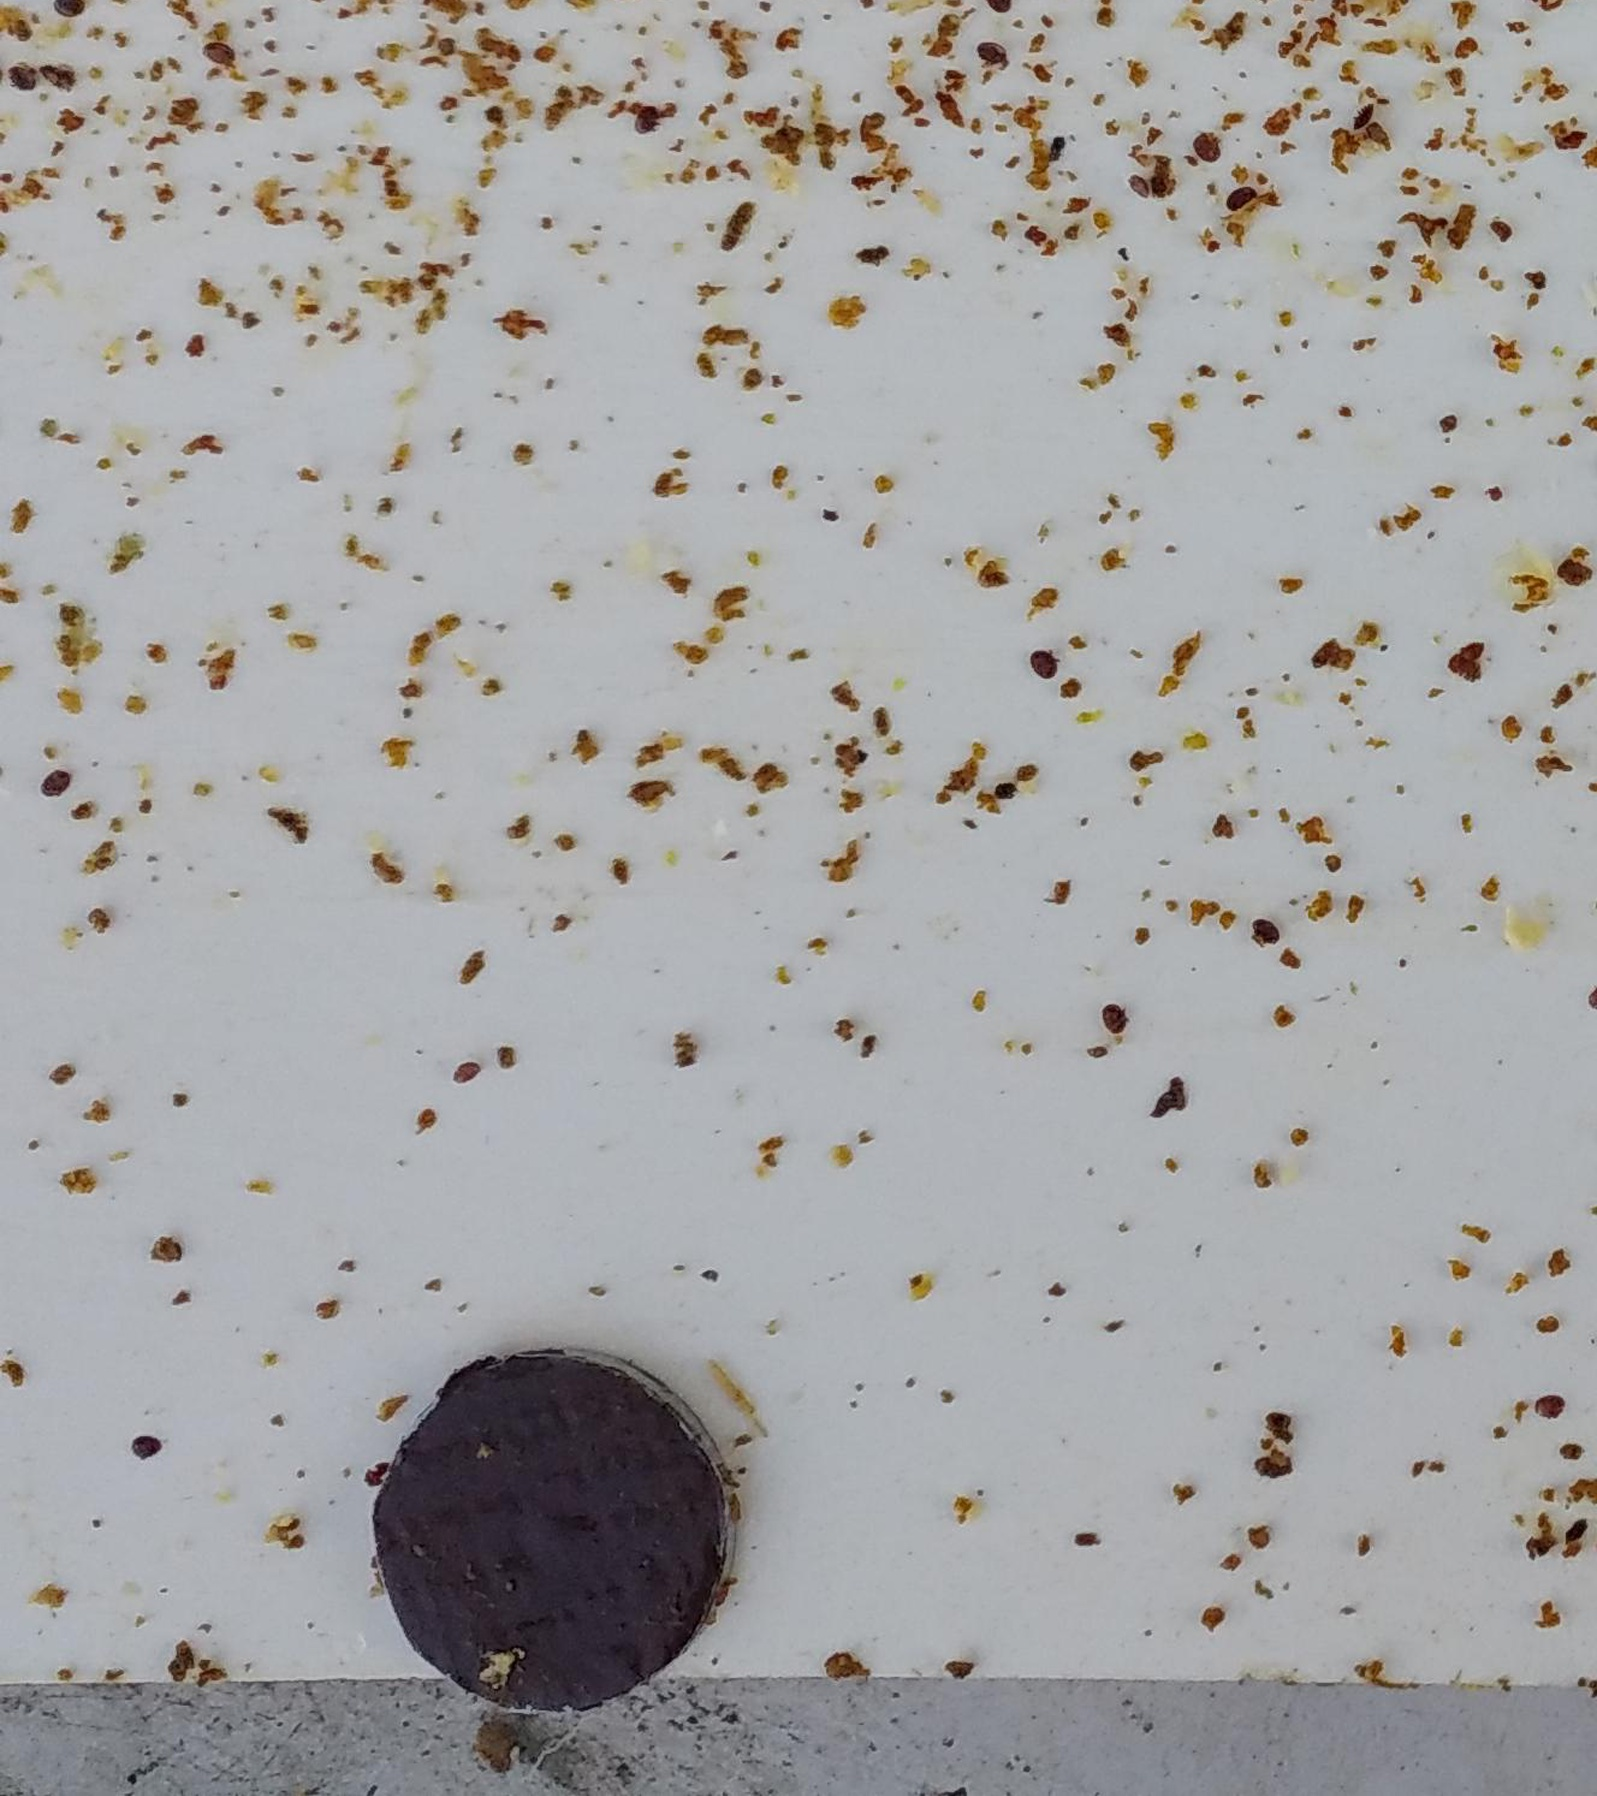Varroa: (630, 99, 667, 136), (1343, 96, 1380, 131), (8, 62, 42, 96), (1127, 166, 1161, 199), (1534, 1391, 1565, 1421), (1192, 133, 1222, 163), (455, 1056, 482, 1085), (1031, 651, 1057, 681), (1102, 1007, 1130, 1034), (203, 39, 230, 65), (1230, 183, 1256, 210), (980, 37, 1007, 63), (1252, 916, 1278, 940), (45, 769, 68, 794), (133, 1434, 156, 1458)
